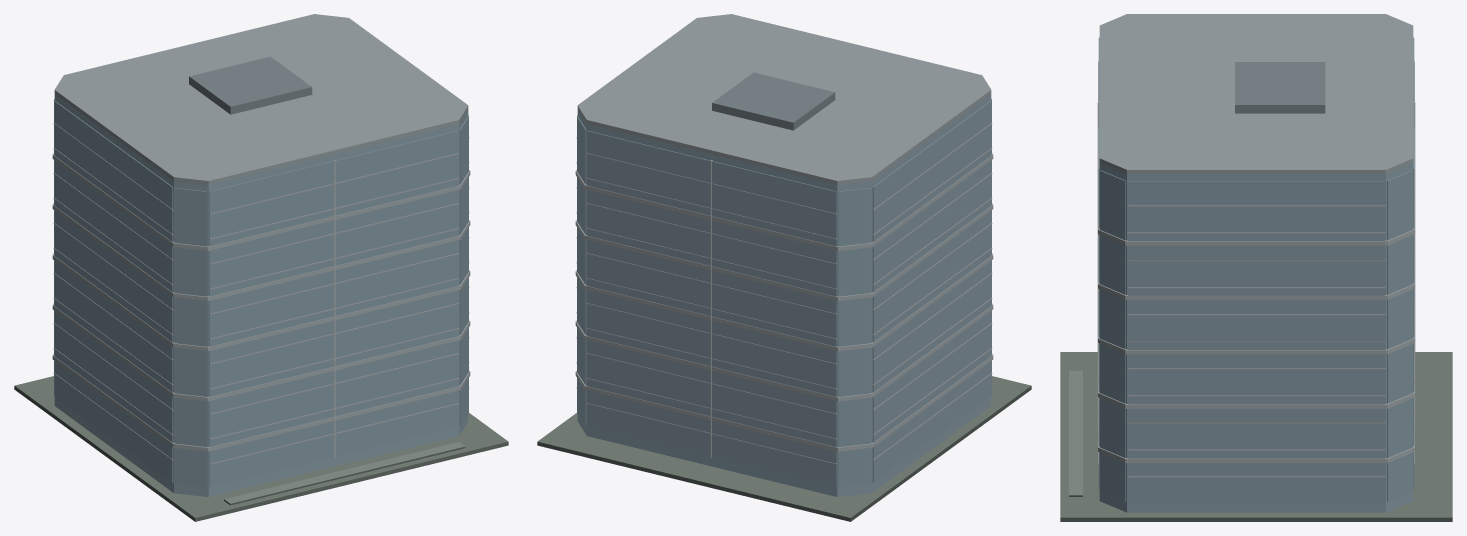
File: generic-ribbon.glb
3 renders of one model, left to right at view 1: azimuth 30°, elevation 25°; view 2: azimuth 150°, elevation 25°; view 3: azimuth 270°, elevation 25°, orthographic. The views are drawn at different scales.
Visible parts, largest first — view 1: generic-ribbon; view 2: generic-ribbon; view 3: generic-ribbon.
Boxes of the visible parts, x1,y1,x2,y2 form: generic-ribbon: (14,14,508,521); generic-ribbon: (537,14,1031,521); generic-ribbon: (1060,14,1452,521).
Size of the model in its own units: 1 by 1 by 1.
